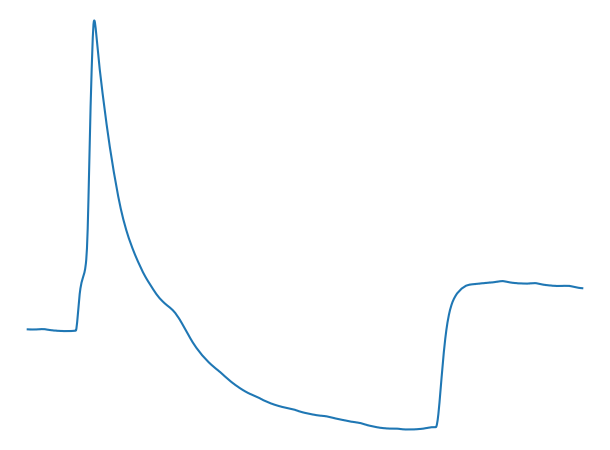increase: (426, 415, 443, 434), (67, 322, 82, 337)
